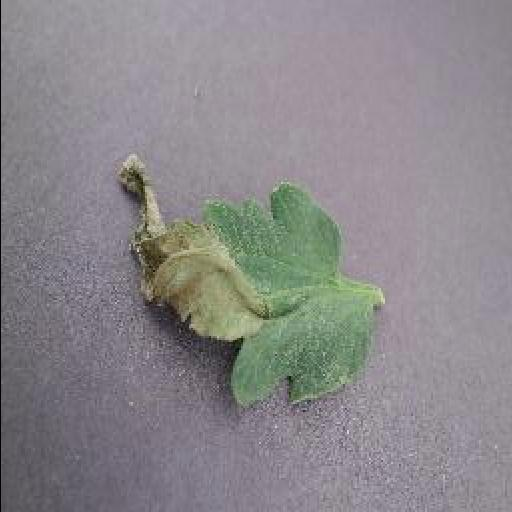disease_tomato: (116, 156, 380, 414)
